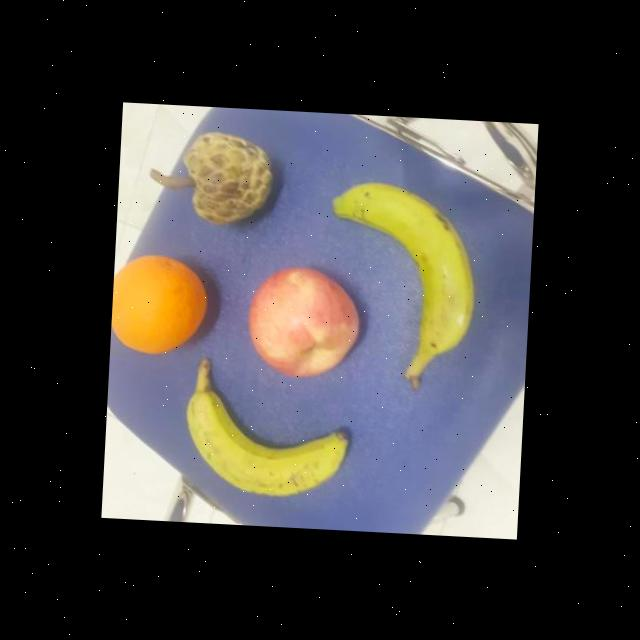Sakya fruit: (174, 120, 274, 242)
apple: (241, 260, 366, 391)
banana: (322, 178, 482, 394), (178, 354, 356, 506)
orange: (110, 245, 218, 362)
